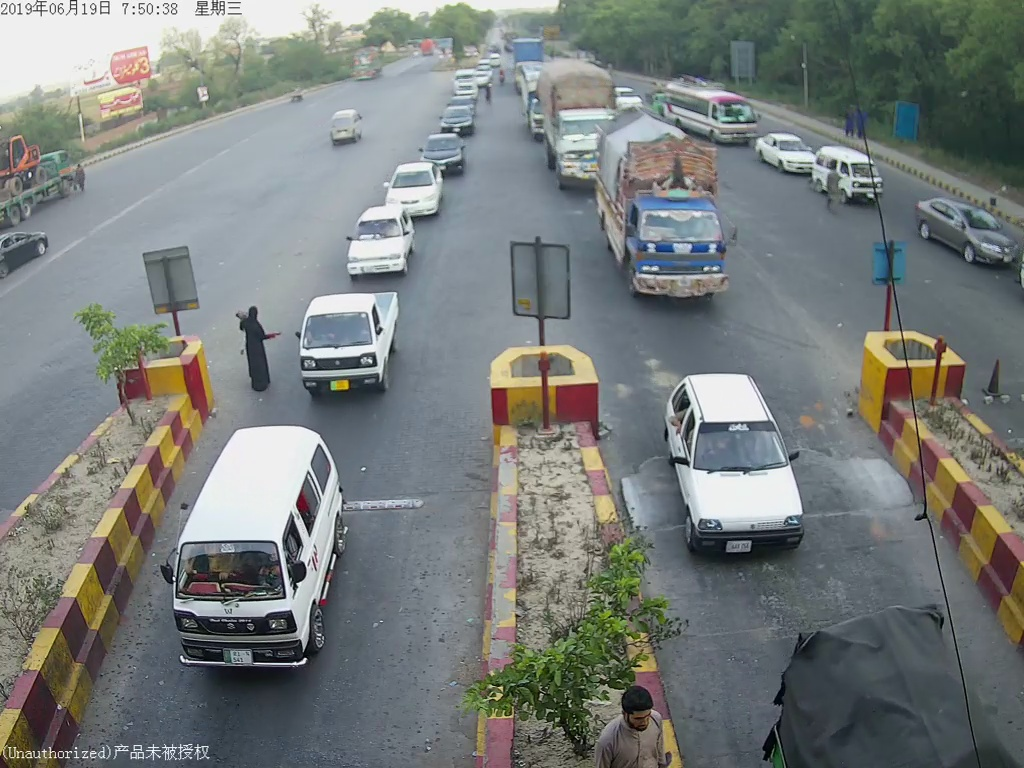Cat-1: (158, 411, 350, 673), (662, 367, 810, 554), (286, 284, 409, 397), (341, 205, 419, 279), (382, 152, 445, 219)
Cat-2: (593, 109, 743, 308)
Cat-4: (533, 49, 619, 190)
